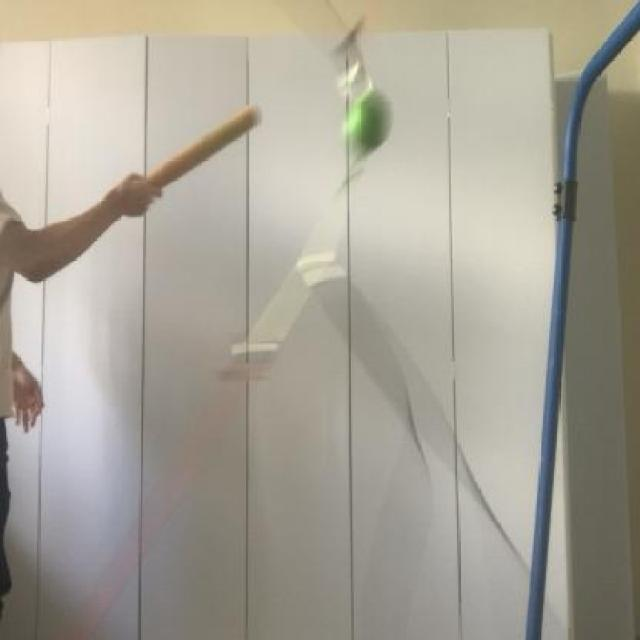baseball: (326, 86, 394, 159)
